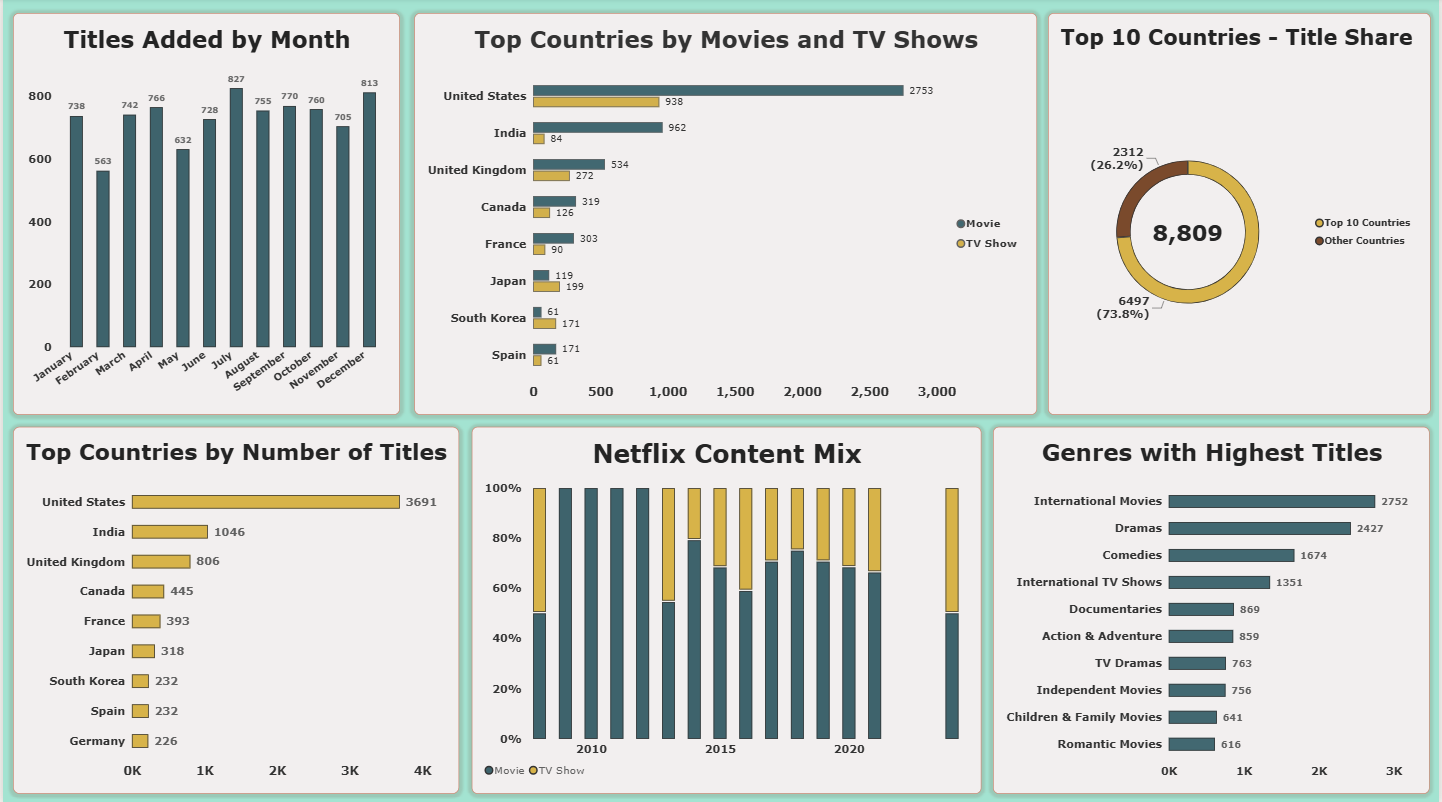

The dashboard page shown, as its layout file describes it:
{"tool":"powerbi","page":{"name":"Page 2","canvas":[1920,1080],"ordinal":1},"visuals":[{"type":"clusteredColumnChart","title":"Titles Added by Month","fields":{"Category":["netflix_titles_cleaned.date_added.Variation.Date Hierarchy.Month"],"Y":["Count(netflix_titles_cleaned.show_id)"]},"box":[14.1,20.2,517,537.1],"z":0},{"type":"hundredPercentStackedColumnChart","title":"Netflix Content Mix","fields":{"Y":["Count(netflix_titles_cleaned.show_id)"],"Series":["netflix_titles_cleaned.type"],"Category":["netflix_titles_cleaned.Year Added"]},"box":[626,573.5,680.5,490.7],"z":1000},{"type":"clusteredBarChart","title":"Top Countries by Number of Titles","fields":{"Y":["Count(netflix_country.show_id)"],"Category":["netflix_country.country"]},"box":[14.1,573.5,595.7,490.7],"z":2000},{"type":"clusteredBarChart","title":"Top Countries by Movies and TV Shows","fields":{"Category":["netflix_country.country"],"Series":["netflix_country.type"],"Y":["Count(netflix_country.show_id)"]},"box":[549.3,20.2,832,537.1],"z":3000},{"type":"donutChart","title":"Top 10 Countries - Title Share","fields":{"Category":["Country Group.Group"],"Y":["Country Group.Country Group Titles"]},"box":[1395.4,20.2,510.9,537.1],"z":4000},{"type":"clusteredBarChart","title":"Genres with Highest Titles","fields":{"Category":["netflix_genre.listed_in"],"Y":["Count(netflix_genre.show_id)"]},"box":[1322.7,573.5,583.6,490.7],"z":5000}]}

Visuals, with their boxes in screenshot pixels (x1, y1, x2, y2), scaled from the page's 1920x1080 canvas onto the 1442x802 screenshot:
"Titles Added by Month" clusteredColumnChart: <box>11,15,399,414</box>
"Netflix Content Mix" hundredPercentStackedColumnChart: <box>470,426,981,790</box>
"Top Countries by Number of Titles" clusteredBarChart: <box>11,426,458,790</box>
"Top Countries by Movies and TV Shows" clusteredBarChart: <box>413,15,1037,414</box>
"Top 10 Countries - Title Share" donutChart: <box>1048,15,1432,414</box>
"Genres with Highest Titles" clusteredBarChart: <box>993,426,1432,790</box>
